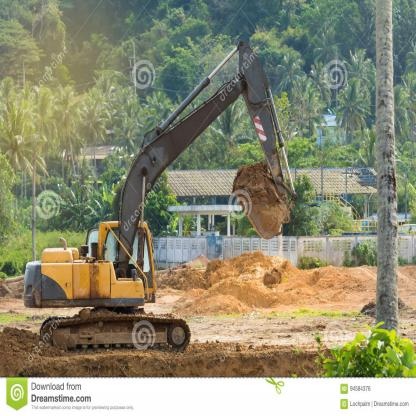excavator: (19, 36, 303, 351)
